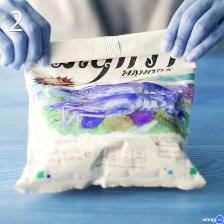snack: (6, 21, 214, 201)
